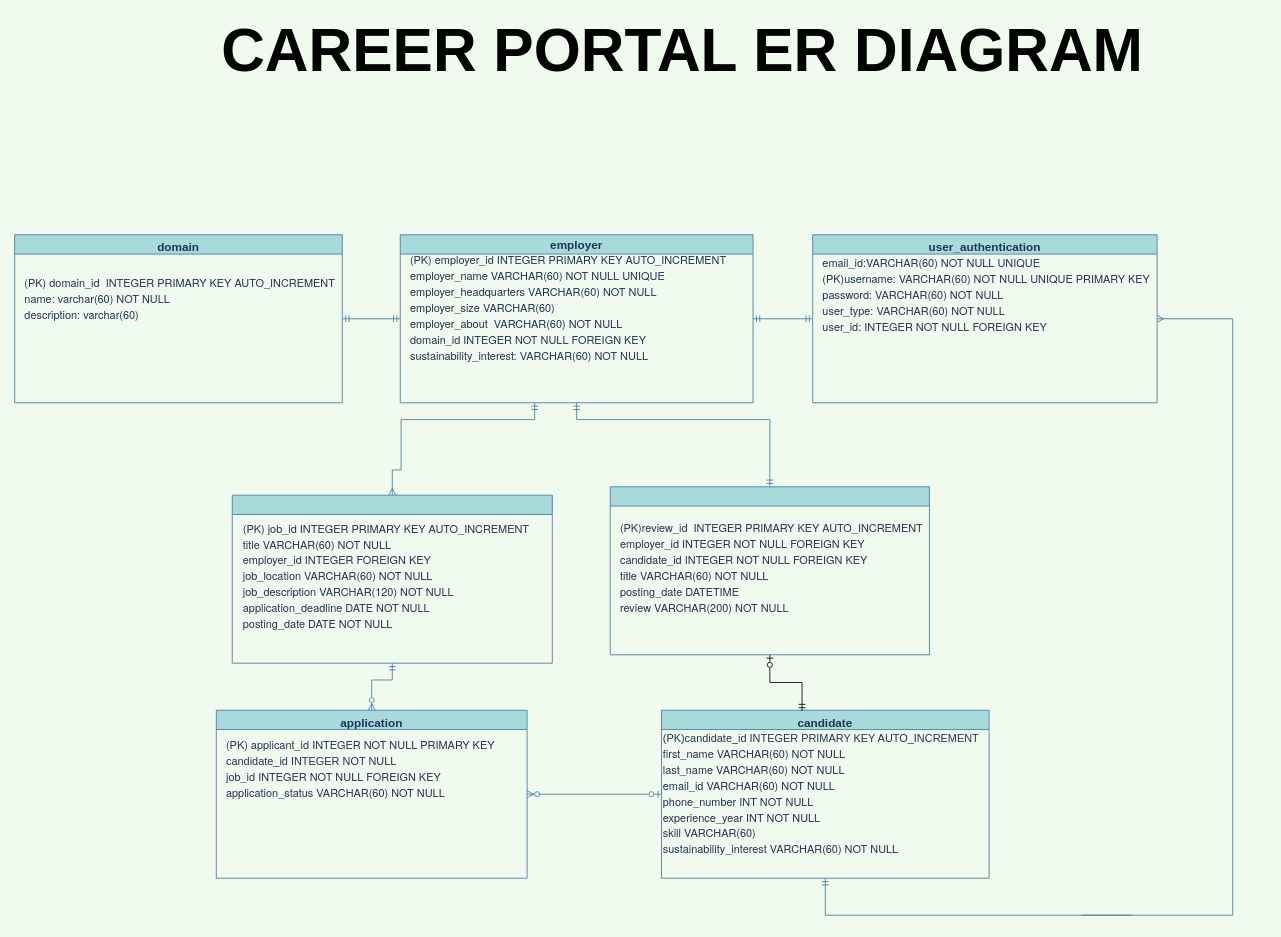
Image size: 1281x937. Some labels were removed from this diagram. The box of each missing label's shape, as (x1, y1, x2, y2) in pixels:
interview_review: (609, 486, 929, 655)
job_posting: (231, 494, 552, 663)
